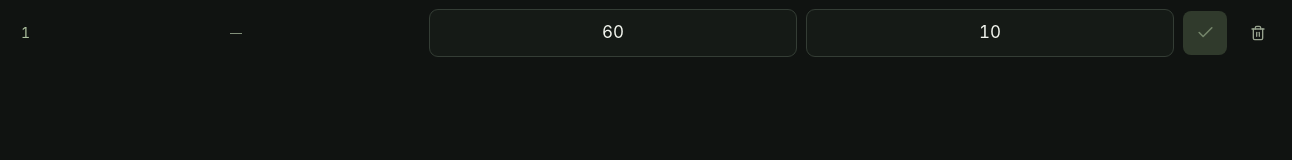
빈 입력을 오류로 표시하고 저장하지 않는다
Clear the field named "1세트 중량" at (613, 33), box [429,9,797,56]
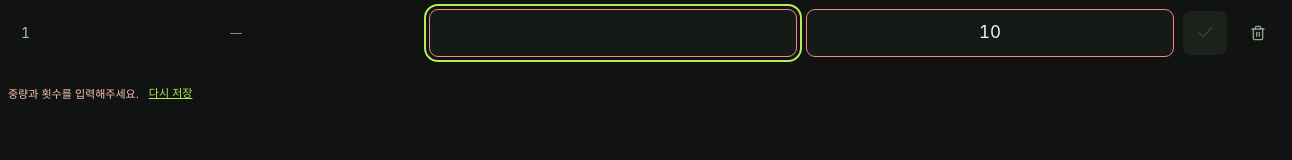
Expected: the message shows "중량과 횟수", [8,86,139,100]
Expected: the button named "1세트 완료" is disabled, [1183,11,1227,55]
